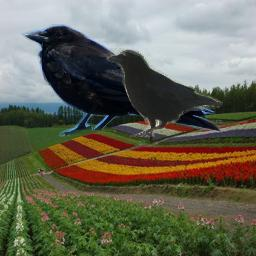Crow: (20, 24, 223, 137), (104, 47, 223, 137)
